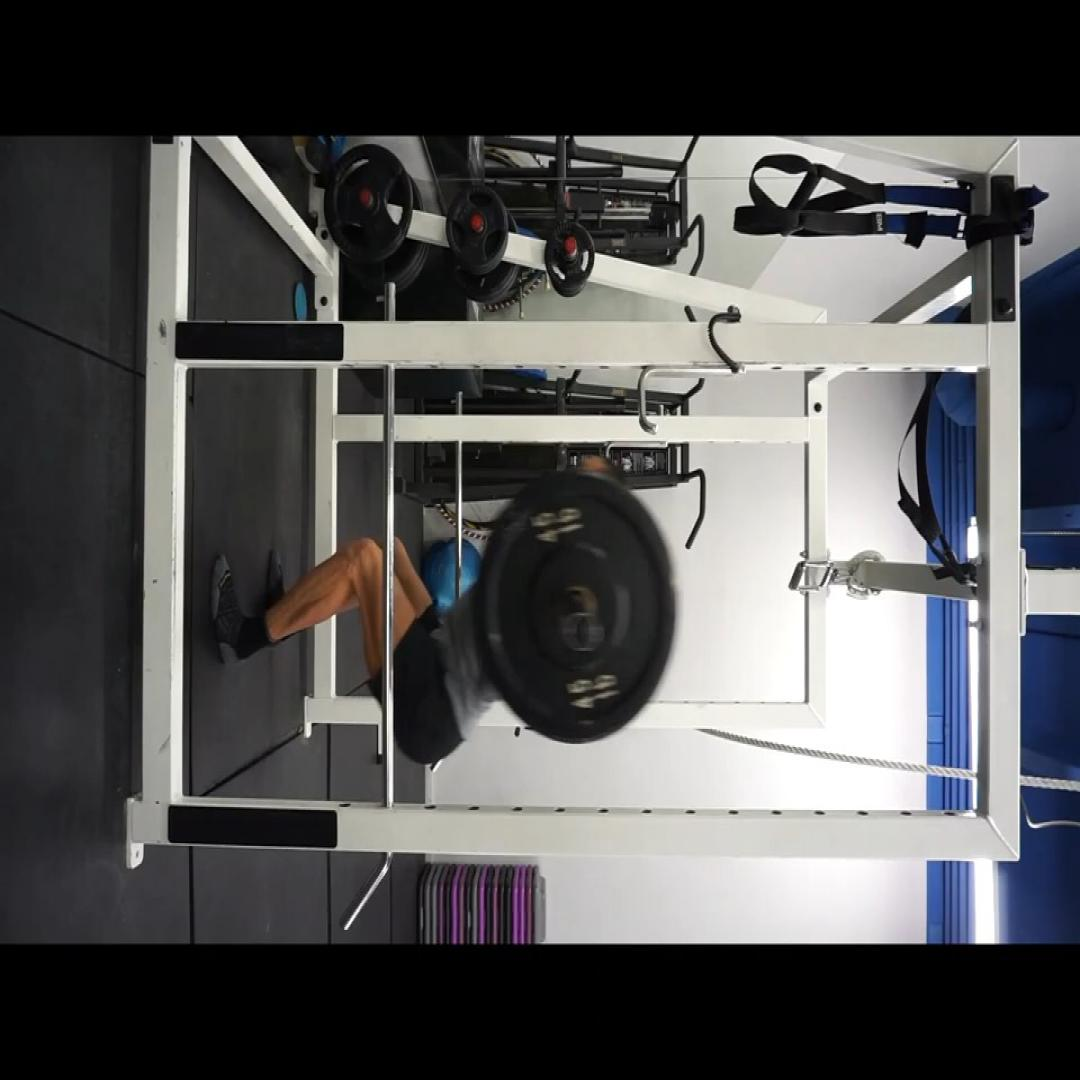Bar: (567, 612, 602, 652)
Barbell: (475, 474, 674, 742)
